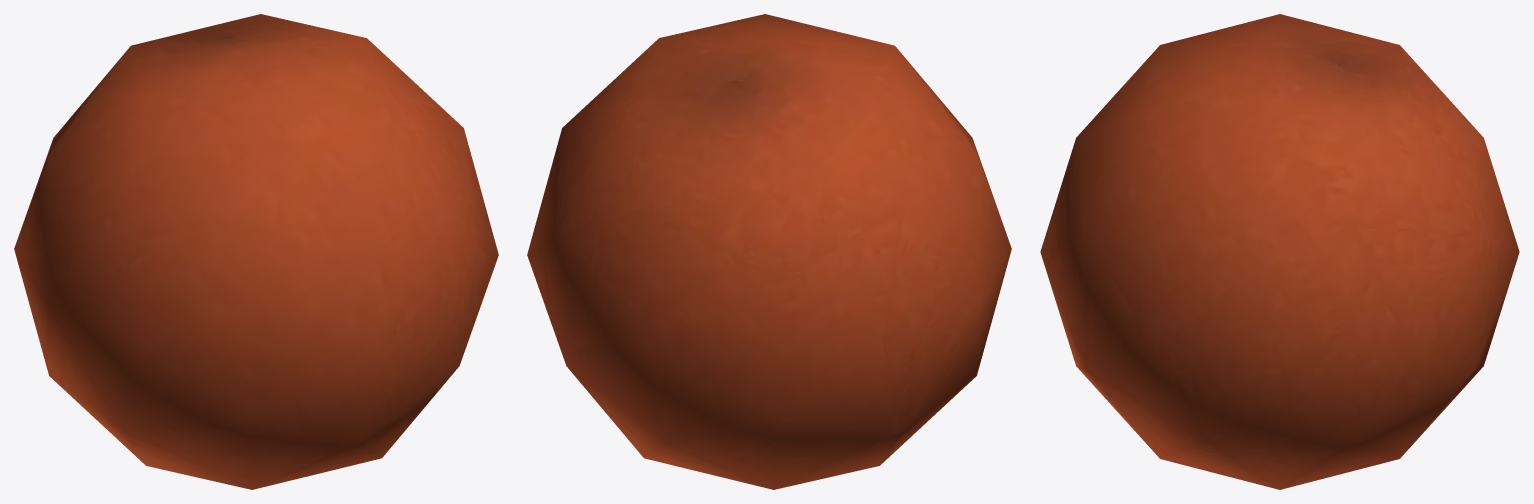
The model's file is singleOrange-transformed.glb.
3 renders of one model, left to right at view 1: azimuth 30°, elevation 25°; view 2: azimuth 150°, elevation 25°; view 3: azimuth 270°, elevation 25°, orthographic.
Parts seen in each view (by area): view 1: Orange; view 2: Orange; view 3: Orange.
Part boxes in pixels (x1=…): Orange: x1=14, y1=14, x2=498, y2=489; Orange: x1=527, y1=14, x2=1011, y2=489; Orange: x1=1040, y1=14, x2=1519, y2=489.
Bounding box in the file's own units: 0.0992 × 0.0918 × 0.0992.
1 material, 1 textured.
